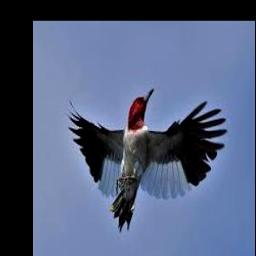Woodpecker: (68, 89, 226, 231)
